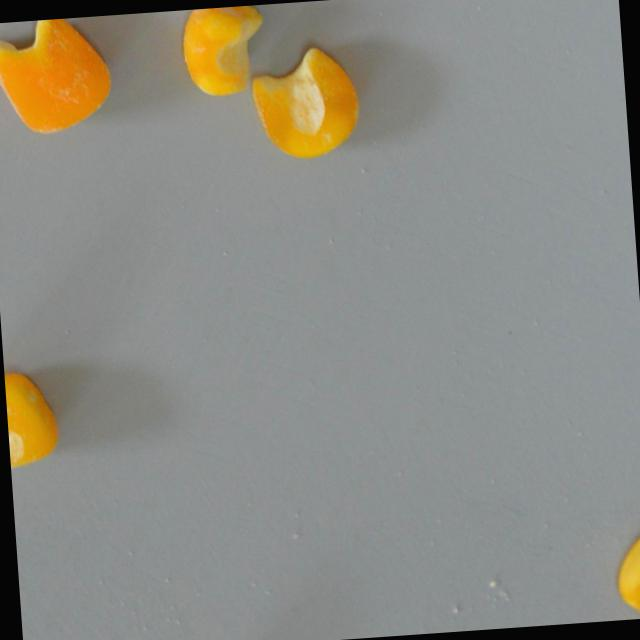no_canjicado: (614, 526, 640, 620)
pelicula: (0, 14, 117, 136), (248, 43, 363, 162), (180, 3, 269, 99), (3, 368, 62, 470)
